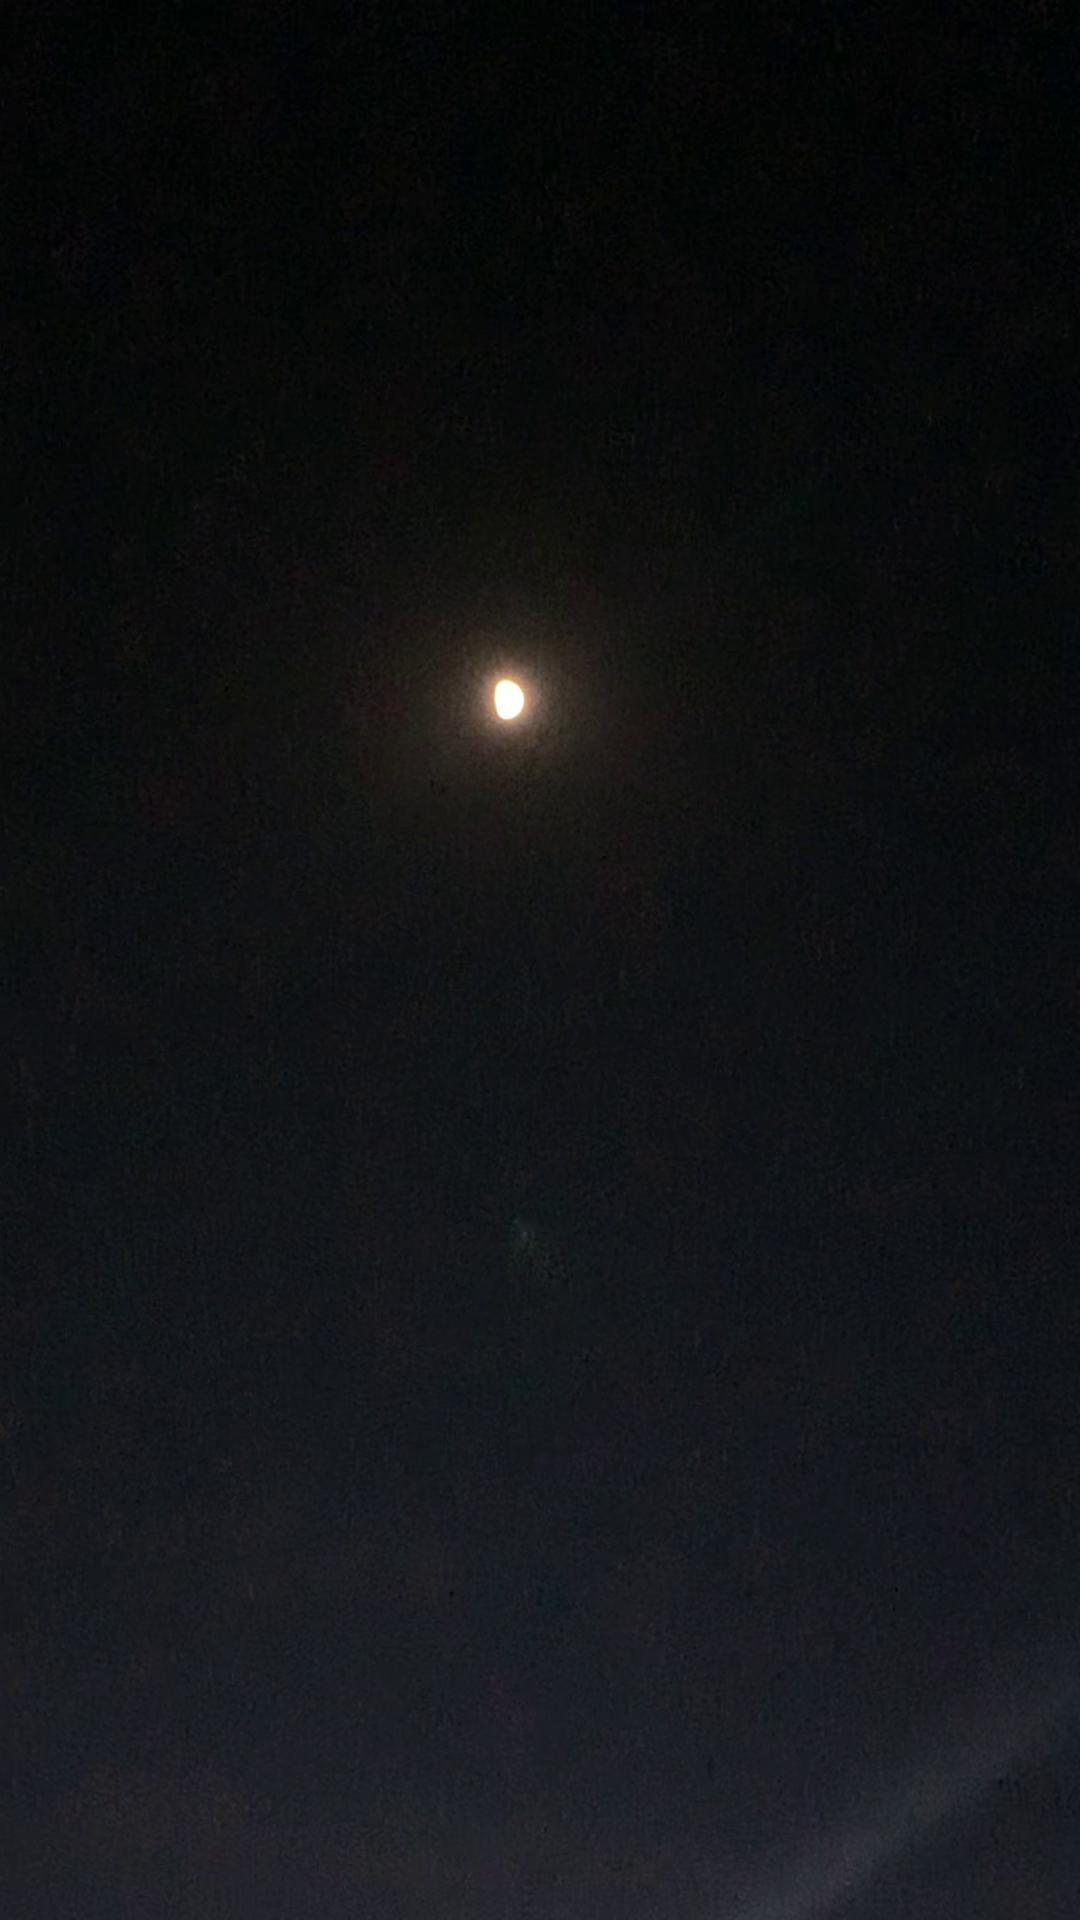moon: (462, 638, 545, 735)
